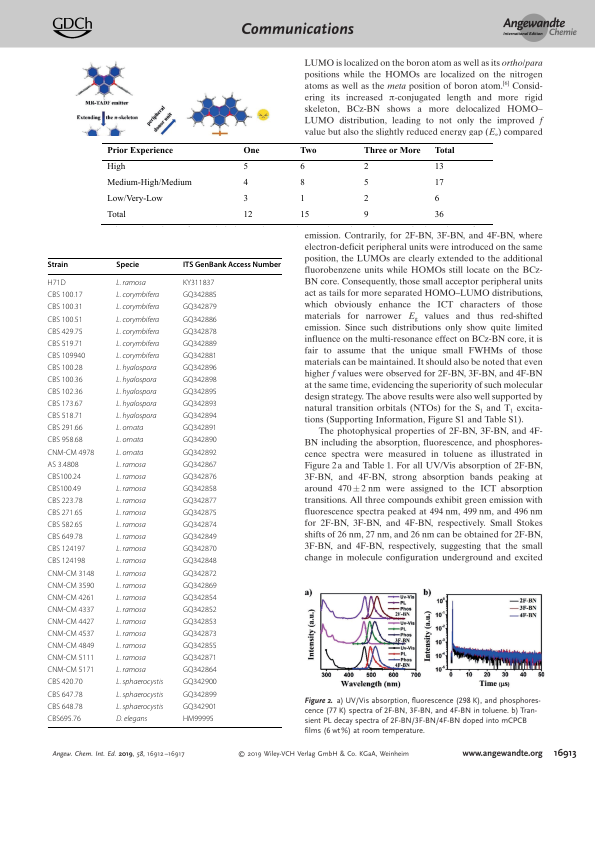borderless: (46, 256, 282, 727), (101, 141, 493, 224)
cell: (182, 260, 282, 270), (106, 178, 192, 188), (106, 145, 173, 155), (362, 145, 421, 155), (106, 194, 163, 204), (115, 677, 164, 687), (115, 290, 160, 300), (115, 302, 160, 312), (115, 690, 164, 699), (115, 702, 164, 711), (47, 629, 95, 638), (47, 641, 95, 650), (47, 653, 95, 662), (115, 375, 157, 385), (115, 387, 157, 397), (115, 399, 157, 409), (115, 411, 157, 421), (115, 315, 160, 324), (115, 327, 160, 336), (115, 339, 160, 348), (115, 351, 160, 360), (47, 448, 95, 456), (47, 569, 95, 577), (47, 581, 95, 589), (47, 593, 95, 601), (47, 605, 95, 613), (47, 617, 95, 625), (47, 666, 95, 674), (115, 363, 157, 372), (47, 375, 83, 384), (182, 375, 218, 384), (47, 387, 83, 396), (182, 387, 218, 396), (47, 399, 83, 408), (182, 399, 218, 408), (47, 508, 83, 517), (182, 508, 218, 517), (47, 520, 83, 529), (182, 520, 218, 529), (47, 532, 83, 541), (182, 532, 218, 541), (182, 629, 218, 638), (182, 641, 218, 650), (182, 653, 218, 662), (115, 278, 147, 288), (115, 496, 147, 506), (115, 508, 147, 518), (115, 520, 147, 530), (115, 532, 147, 542), (115, 544, 147, 554), (115, 556, 147, 566), (115, 617, 147, 627), (115, 629, 147, 639), (115, 641, 147, 651), (115, 653, 147, 663), (115, 665, 147, 675), (47, 351, 86, 359), (47, 545, 86, 553), (47, 557, 86, 565), (182, 278, 215, 287), (115, 714, 148, 723), (46, 291, 83, 299), (46, 303, 83, 311), (46, 315, 83, 323), (115, 423, 144, 433), (182, 291, 218, 299), (182, 303, 218, 311), (182, 315, 218, 323), (47, 327, 83, 335), (182, 327, 218, 335), (47, 339, 83, 347), (182, 339, 218, 347), (182, 351, 218, 359), (47, 363, 83, 371), (182, 363, 218, 371), (47, 412, 83, 420), (182, 412, 218, 420), (47, 424, 83, 432), (182, 424, 218, 432), (47, 436, 83, 444), (182, 436, 218, 444), (182, 448, 218, 456), (115, 460, 147, 469), (182, 460, 218, 468), (115, 472, 147, 481), (182, 472, 218, 480), (115, 484, 147, 493), (182, 484, 218, 492), (47, 496, 83, 504), (182, 496, 218, 504), (182, 545, 218, 553), (182, 557, 218, 565), (115, 569, 147, 578), (182, 569, 218, 577), (115, 581, 147, 590), (182, 581, 218, 589), (115, 593, 147, 602), (182, 593, 218, 601), (115, 605, 147, 614), (182, 605, 218, 613), (182, 617, 218, 625), (182, 666, 218, 674), (47, 678, 83, 686), (182, 678, 218, 686), (47, 690, 83, 698), (182, 690, 218, 698), (47, 702, 83, 710), (182, 702, 218, 710), (47, 472, 82, 480), (47, 484, 82, 492), (47, 714, 82, 722), (47, 460, 80, 468), (182, 714, 215, 722), (115, 436, 144, 445), (115, 448, 144, 457), (115, 260, 140, 270), (46, 260, 69, 270), (433, 145, 455, 155), (106, 162, 126, 172), (106, 210, 126, 220), (46, 278, 67, 287), (242, 145, 260, 155), (299, 145, 317, 155), (433, 162, 444, 172), (433, 178, 444, 188), (242, 210, 253, 220), (299, 210, 310, 220), (433, 210, 444, 220), (362, 162, 369, 172), (362, 178, 369, 188), (362, 194, 369, 204), (433, 194, 440, 204), (362, 210, 369, 220), (242, 162, 248, 172), (299, 162, 305, 172), (242, 178, 248, 188), (299, 178, 305, 188), (242, 194, 248, 204), (299, 194, 305, 204)
